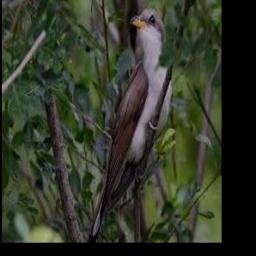Cuckoo: (89, 8, 171, 241)
